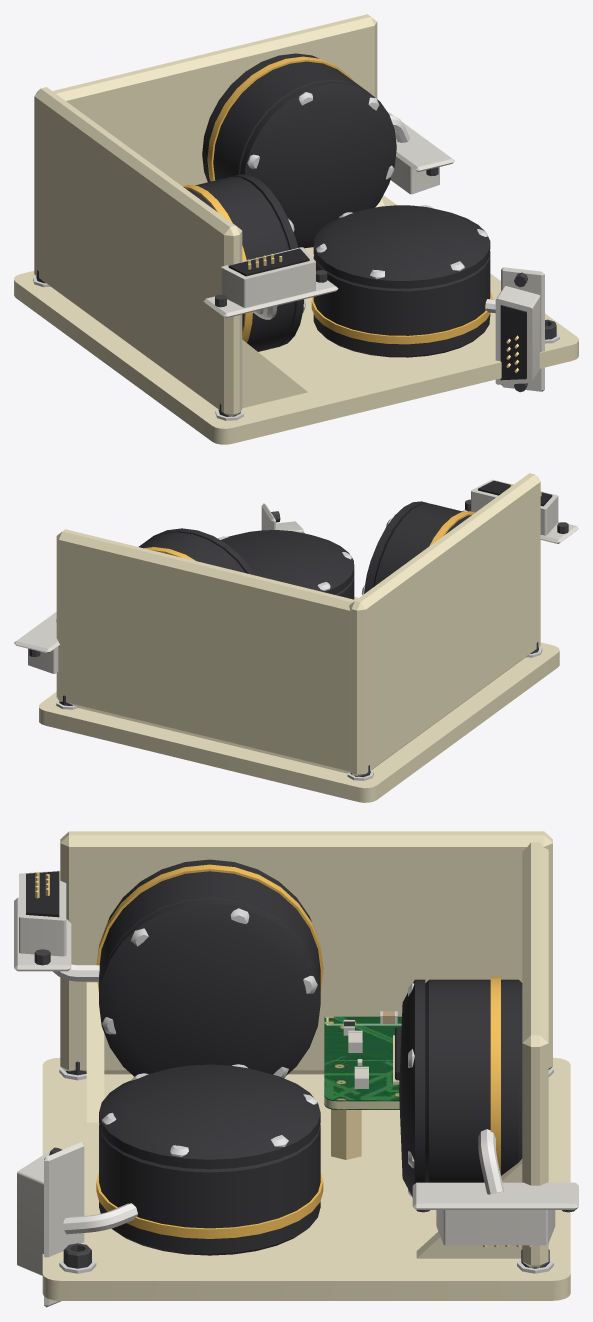
File: rw_cluster.glb
The picture shows the model from 3 angles, top to bottom: view 1: azimuth 30°, elevation 25°; view 2: azimuth 150°, elevation 25°; view 3: azimuth 270°, elevation 25°; orthographic projection. The views are drawn at different scales.
Parts seen in each view (by area): view 1: rw_cluster, wheel_y, cover_z, cover_y, wheel_x, wheel_z, cover_x; view 2: rw_cluster, cover_y, wheel_x, wheel_z, cover_x, wheel_y, cover_z; view 3: rw_cluster, cover_x, wheel_z, wheel_y, cover_y, wheel_x, drive_board, cover_z.
Boxes of the visible parts, <box> form: rw_cluster: <box>14,14,578,444</box>; wheel_y: <box>311,251,544,392</box>; cover_z: <box>240,80,396,248</box>; cover_y: <box>313,205,490,288</box>; wheel_x: <box>183,176,338,351</box>; wheel_z: <box>202,53,454,194</box>; cover_x: <box>233,174,305,348</box>; rw_cluster: <box>39,473,559,802</box>; cover_y: <box>218,529,354,594</box>; wheel_x: <box>373,479,578,586</box>; wheel_z: <box>14,532,245,673</box>; cover_x: <box>361,501,428,594</box>; wheel_y: <box>261,503,354,599</box>; cover_z: <box>150,528,254,575</box>; rw_cluster: <box>42,831,570,1300</box>; cover_x: <box>99,899,320,1078</box>; wheel_z: <box>412,977,578,1247</box>; wheel_y: <box>17,1124,323,1307</box>; cover_y: <box>99,1064,320,1169</box>; wheel_x: <box>14,859,323,997</box>; drive_board: <box>324,1011,401,1109</box>; cover_z: <box>399,979,425,1197</box>.
Size of the model in its own units: 0.0642 by 0.0364 by 0.0642.
19 materials, 1 textured.
